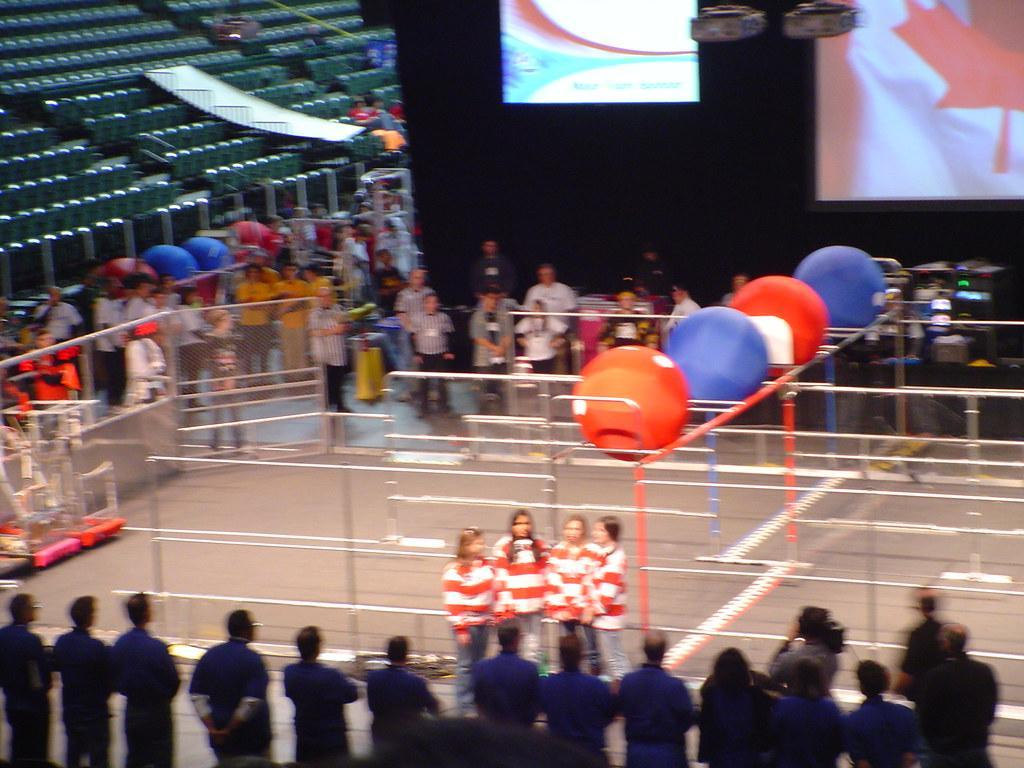robot: (19, 397, 139, 559), (0, 423, 90, 580)
